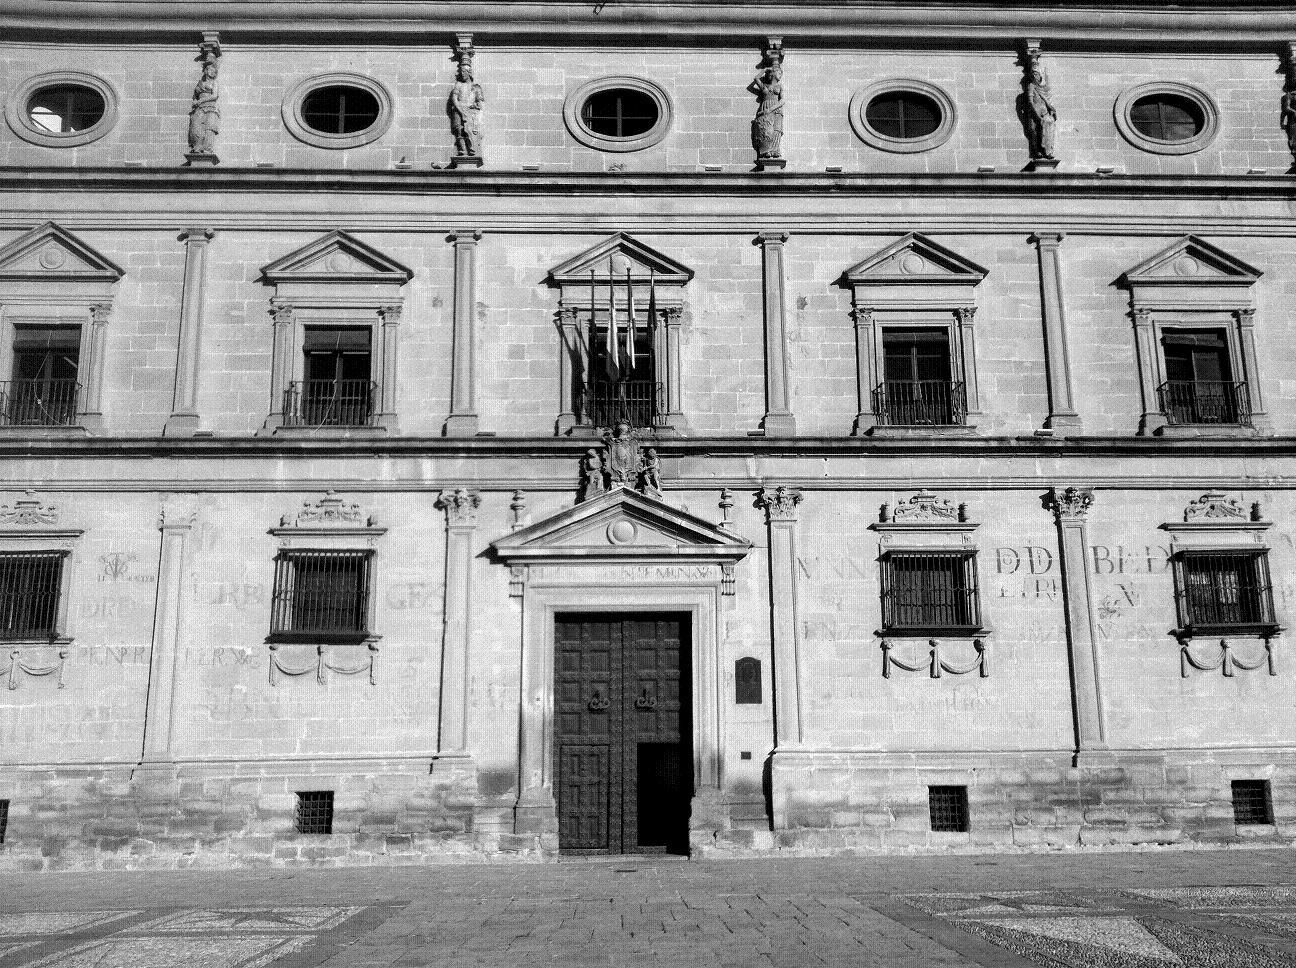fronton: (482, 484, 764, 569), (837, 228, 993, 290), (256, 227, 416, 287), (544, 228, 700, 289), (1118, 229, 1268, 291), (1, 217, 127, 287)
ojo-de-buey: (1, 64, 125, 154), (556, 69, 680, 157), (275, 68, 402, 153), (843, 74, 965, 157), (1108, 78, 1228, 159)
vano-adintelado: (516, 576, 729, 865), (1124, 298, 1274, 443), (266, 291, 406, 445), (551, 293, 689, 440), (846, 297, 987, 439), (1, 291, 116, 439)
